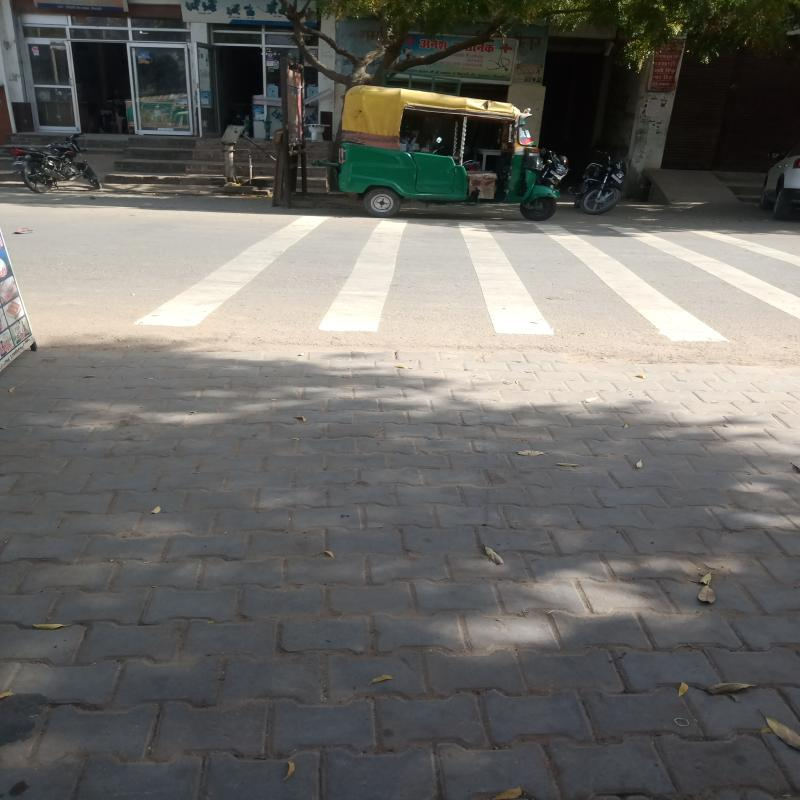auto: (337, 88, 547, 226)
